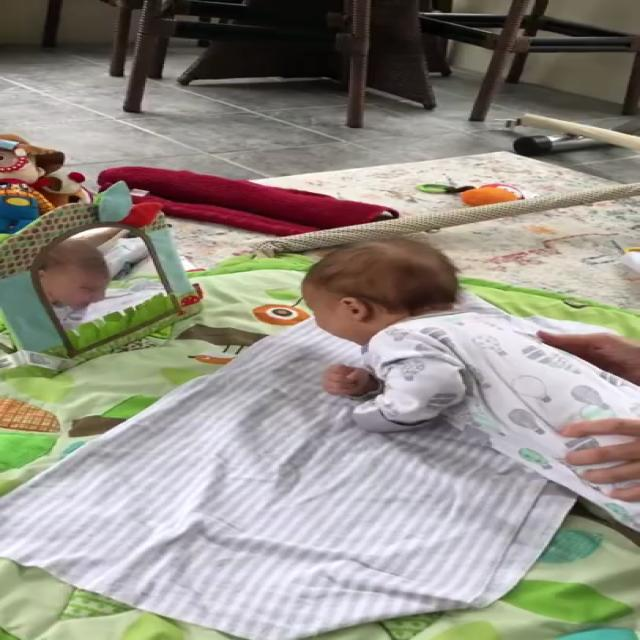baby: (301, 239, 640, 539)
